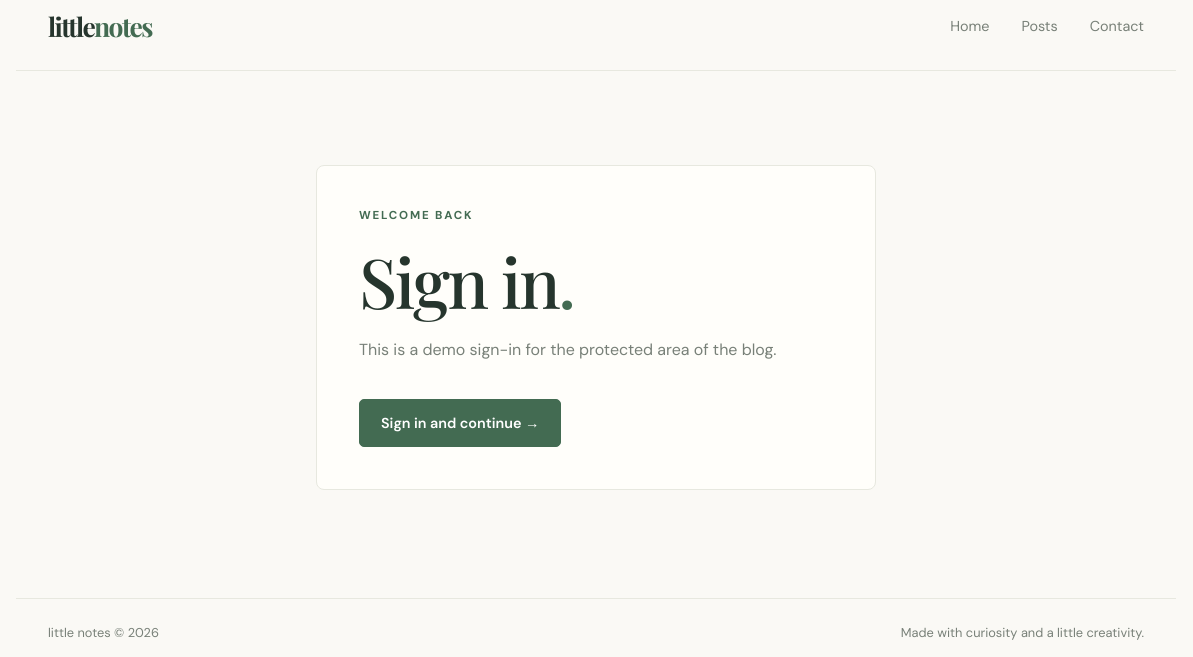
Test case: Blog application › protects the page and allows access after signing in
Expected: the heading "Sign in." is shown, x1=359 y1=235 x2=574 y2=326
Step 1. Click the button "Sign in and continue →" → (460, 423), box x1=359 y1=399 x2=561 y2=447
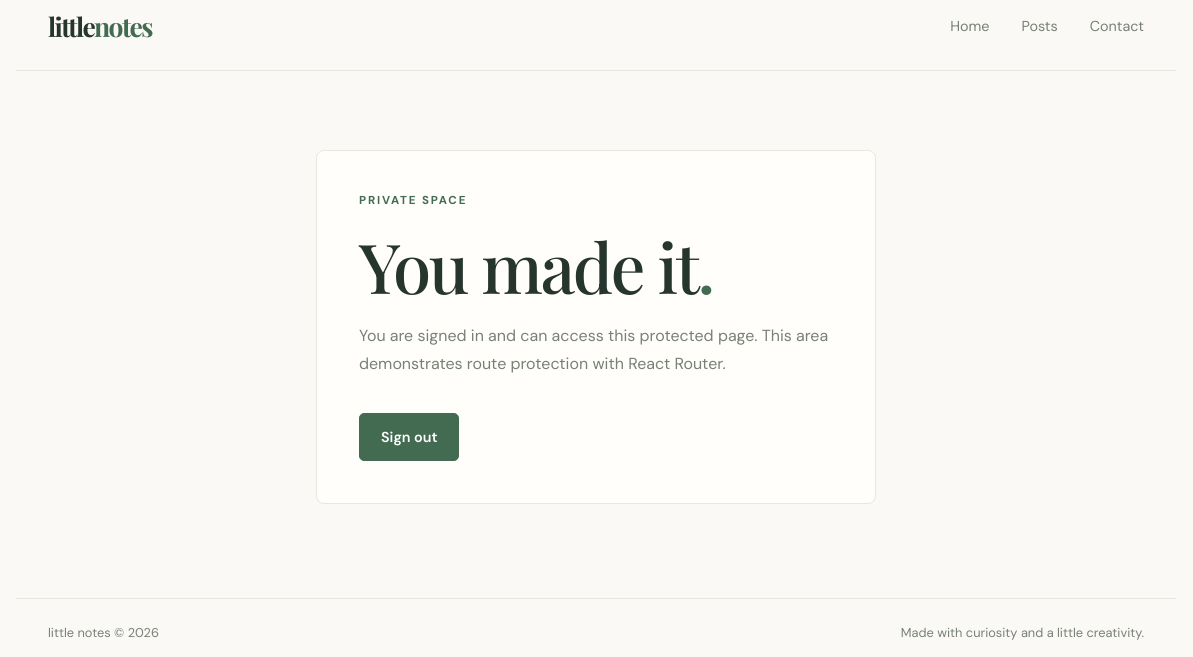
Now the heading "You made it." is shown, box x1=359 y1=220 x2=713 y2=311
Step 2. Click the button "Sign out" → (409, 437), box x1=359 y1=413 x2=460 y2=461
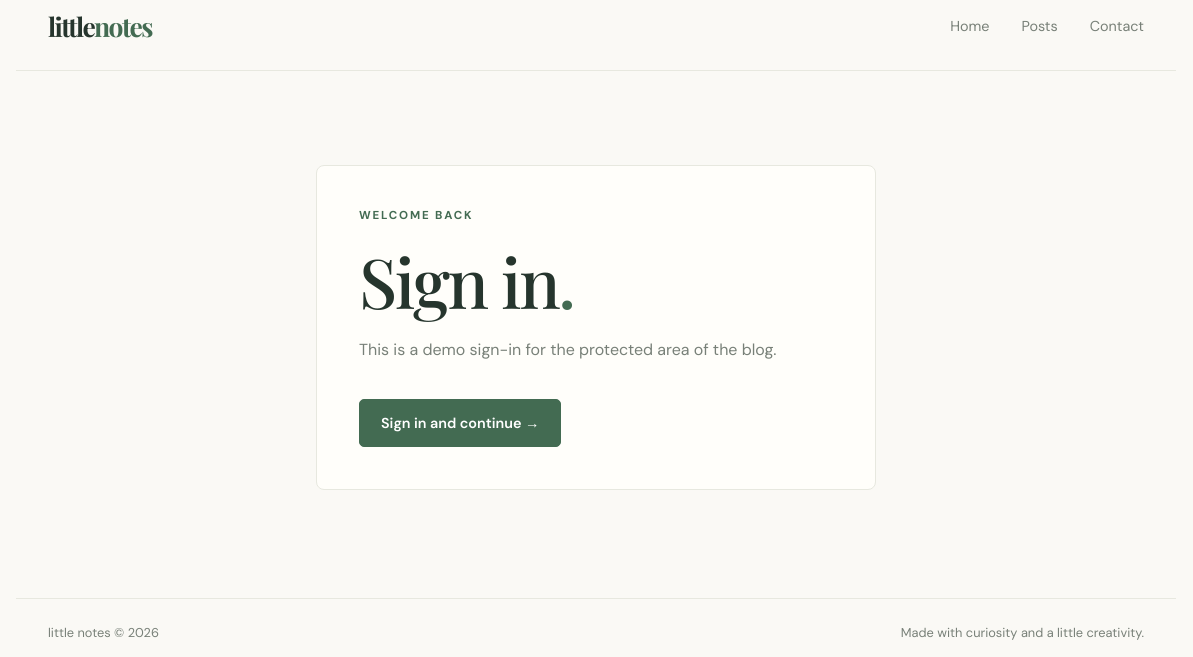
Now the heading "Sign in." is shown, box x1=359 y1=235 x2=574 y2=326
